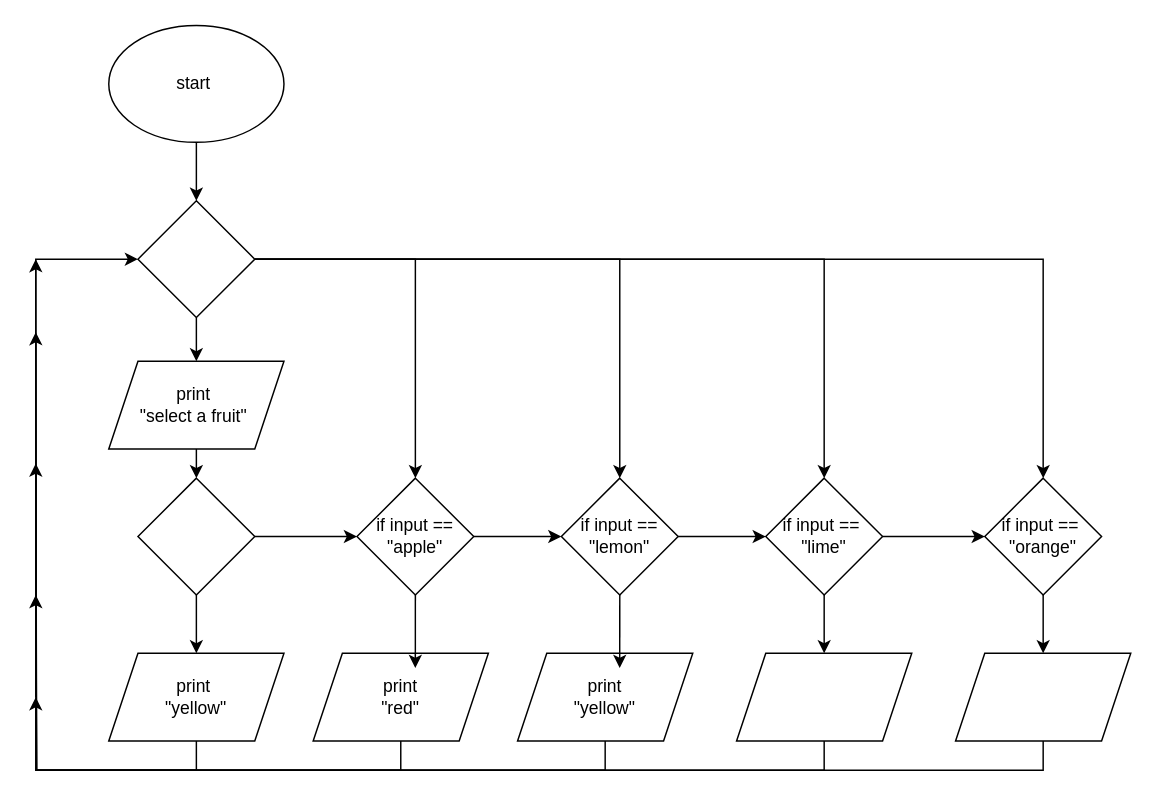
This 1156x807 diagram has some shape labels left out. The centre of each missing label's shape, as x and y in pixels:
for fruits in range 5: [196,258]
if input == "banana": [196,536]
print "green": [823,696]
print "orange": [1042,696]
